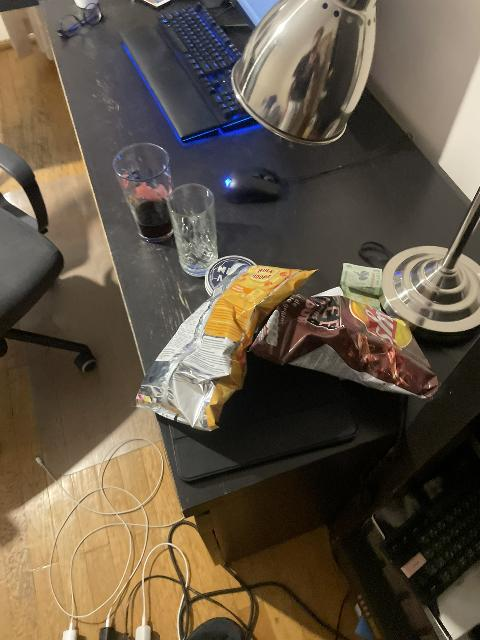Chio Hula Hoops Cheese 70g: (137, 264, 325, 426)
Lays Beef Grilled Ribs 125g: (262, 290, 428, 401)
